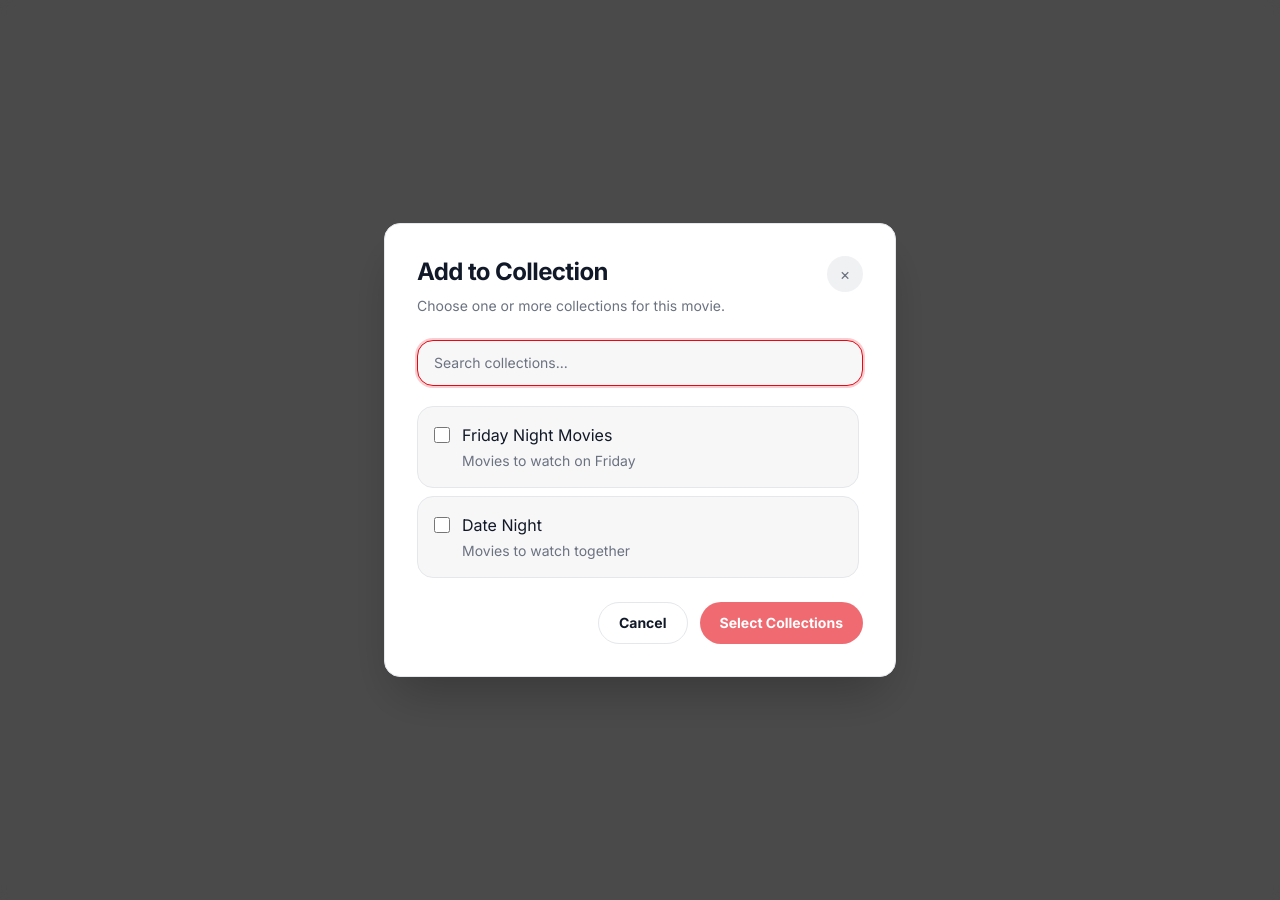
Scenario: CollectionPickerModal › filters collections using the search input
Type "date" into the search field with placeholder "Search collections..." at (640, 363), box [417,340,863,386]
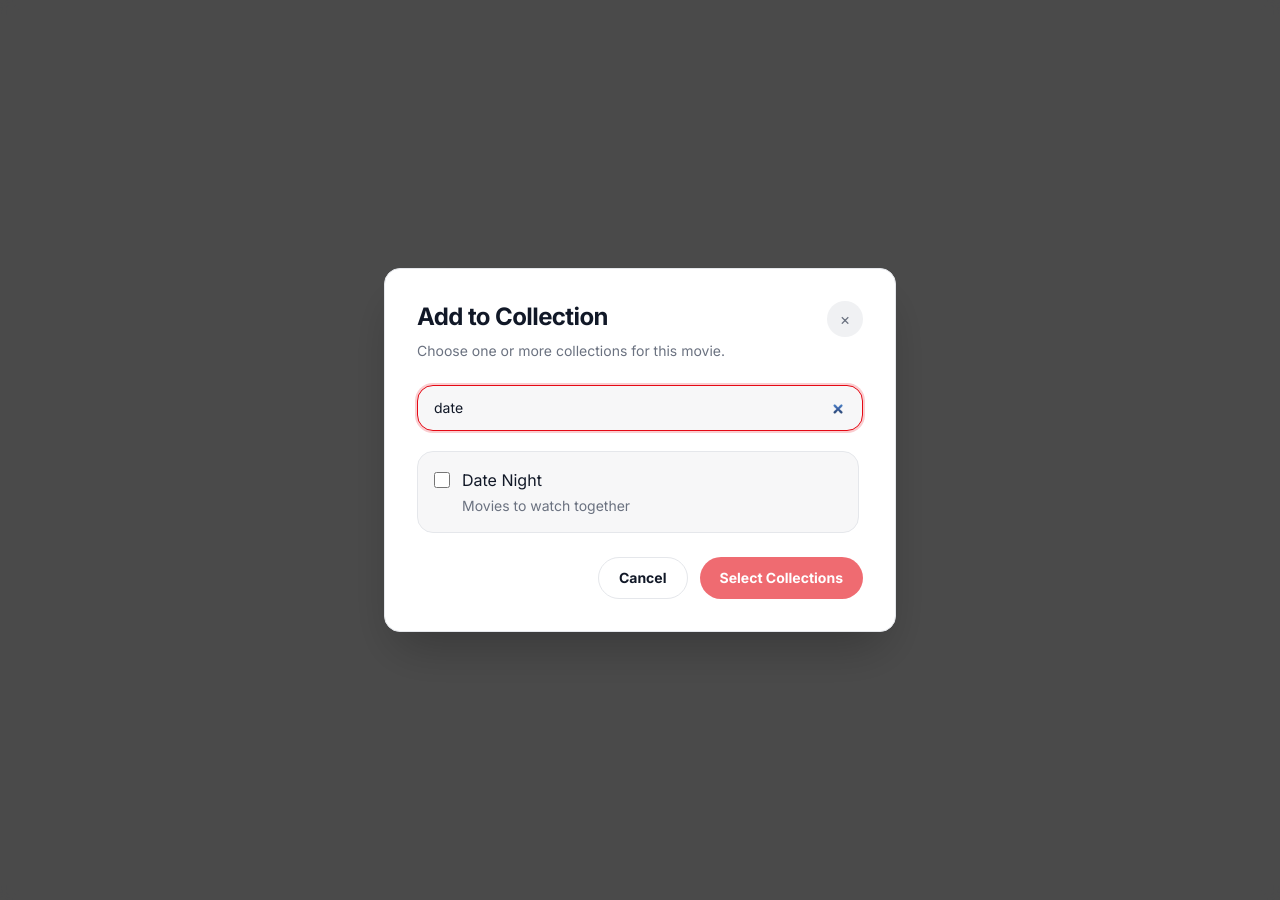
Expected: the text "Date Night" is shown, [462,470,542,490]
Expected: the button "Friday Night Movies" is gone
